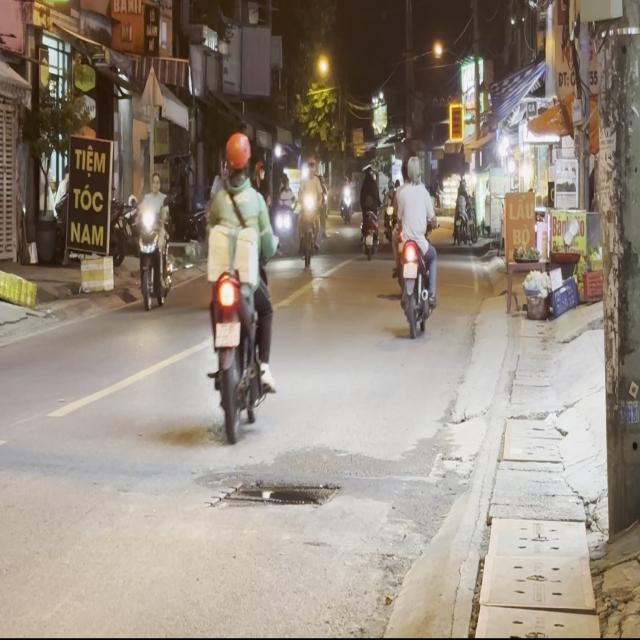helmet: (222, 130, 250, 180)
licenseplate: (200, 128, 278, 436), (390, 154, 438, 334), (134, 168, 174, 310)
motorcyclist: (406, 155, 421, 181)
nohelmet: (215, 320, 239, 346), (403, 262, 416, 277)
